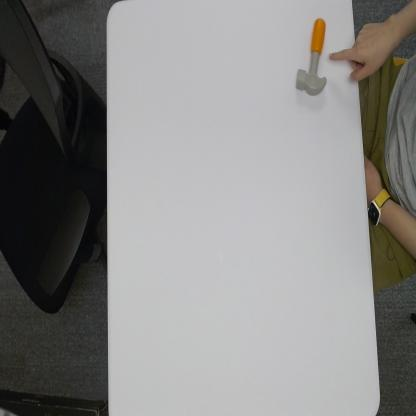Hammer: (296, 16, 327, 97)
Hand: (328, 20, 388, 84)
